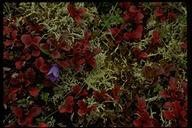flower: (45, 62, 63, 83)
